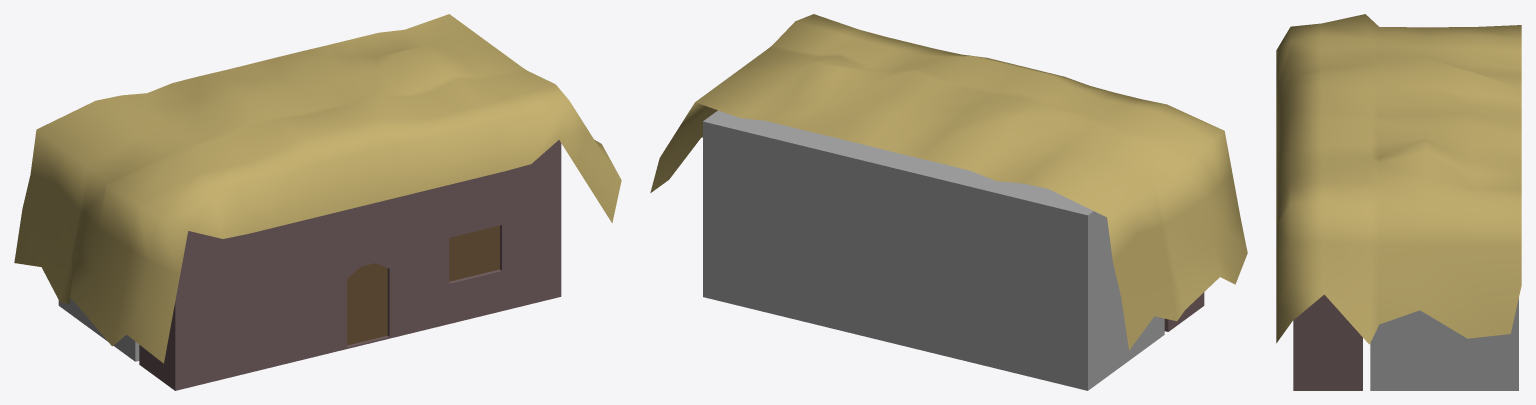
File: House.fbx
The picture shows the model from 3 angles, left to right: view 1: azimuth 30°, elevation 25°; view 2: azimuth 150°, elevation 25°; view 3: azimuth 270°, elevation 25°; orthographic projection. The views are drawn at different scales.
Parts seen in each view (by area): view 1: pPlane1, polySurface1, polySurface2; view 2: polySurface2, pPlane1; view 3: pPlane1, polySurface2, polySurface1.
Boxes of the visible parts, bbox=[...] form: pPlane1: bbox=[14, 14, 621, 363]; polySurface1: bbox=[139, 140, 561, 390]; polySurface2: bbox=[58, 298, 139, 361]; polySurface2: bbox=[703, 110, 1164, 390]; pPlane1: bbox=[650, 14, 1247, 350]; pPlane1: bbox=[1276, 14, 1521, 344]; polySurface2: bbox=[1370, 298, 1518, 390]; polySurface1: bbox=[1293, 294, 1362, 390].
Bounding box in the file's own units: 111 × 44.91 × 47.72.
